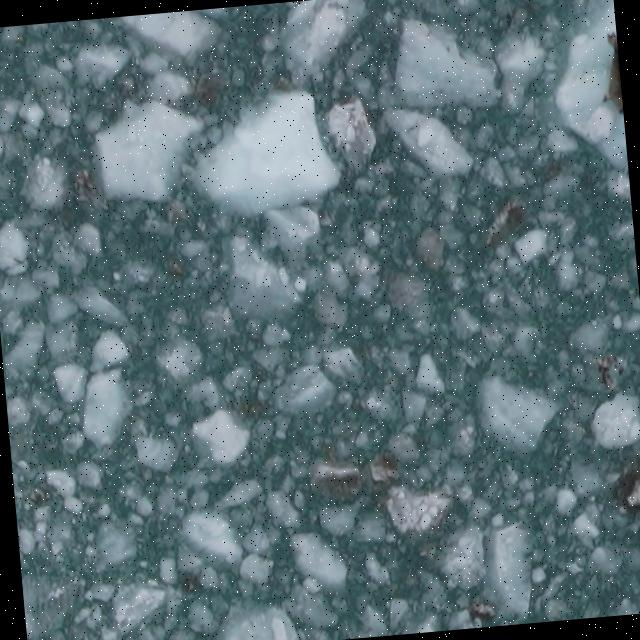seal: (591, 28, 624, 124)
